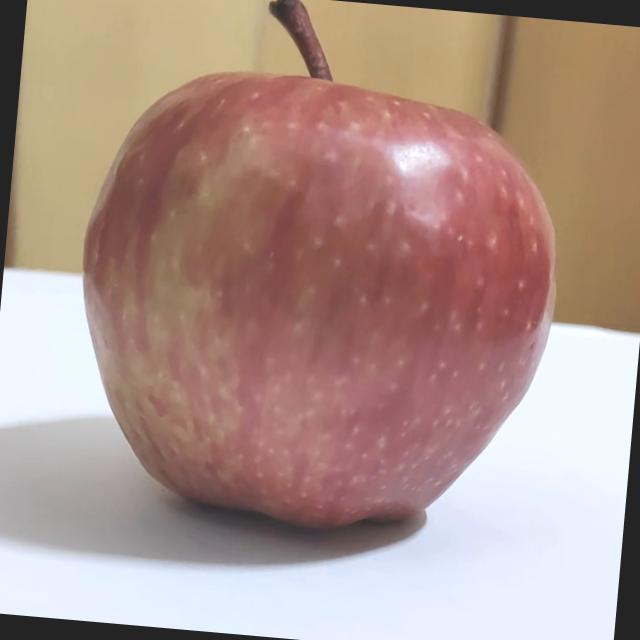apple: (57, 0, 582, 570)
